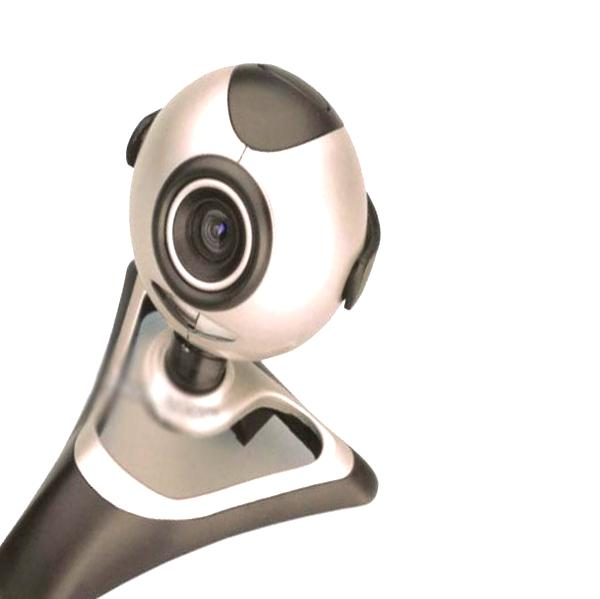webcam: (101, 49, 410, 372)
